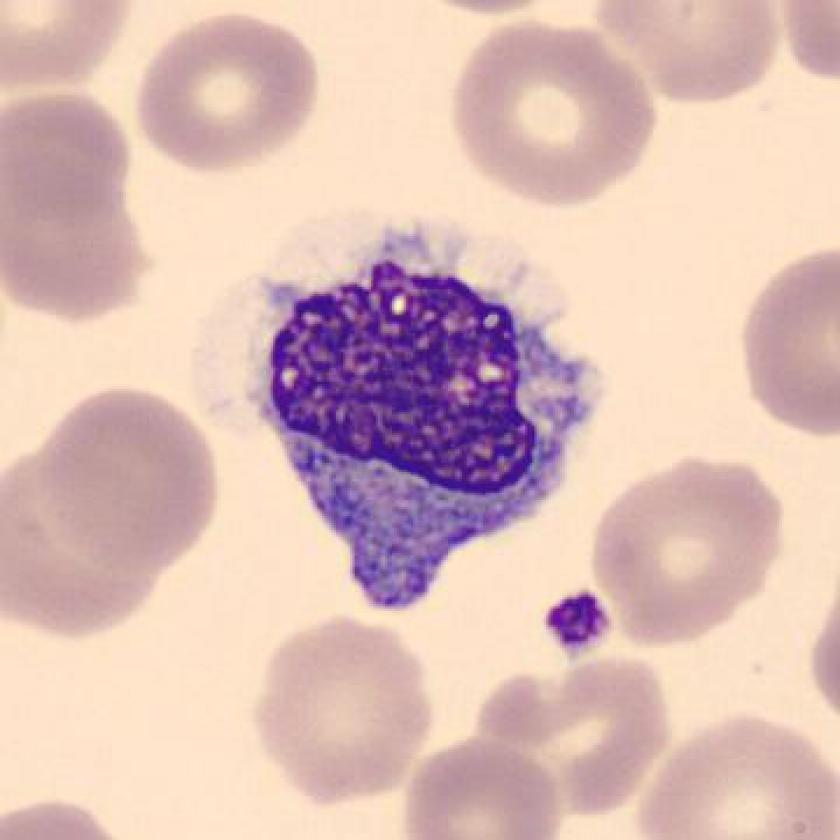monocyte: (216, 202, 624, 628)
